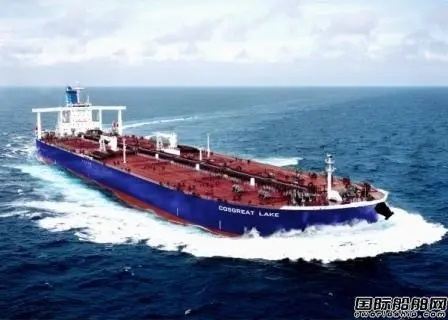Cargoship: (31, 83, 396, 228)
